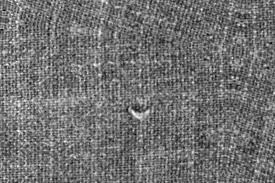snag: (124, 103, 158, 124)
